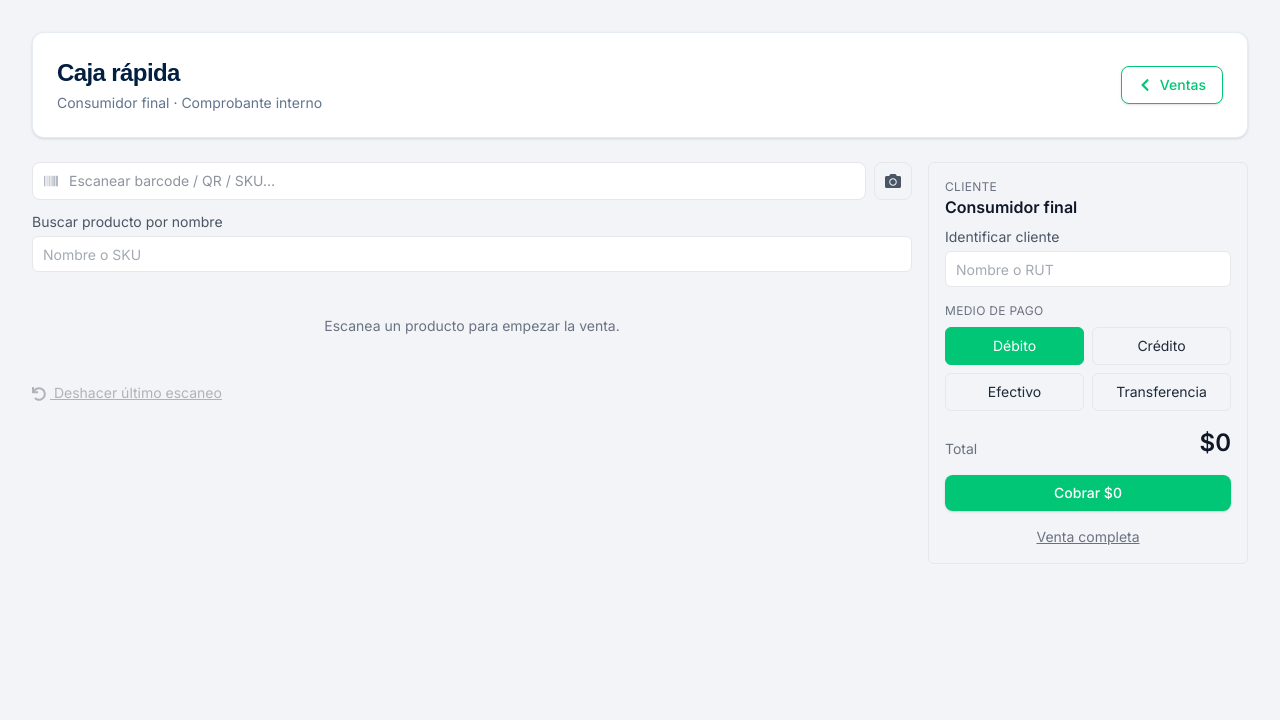
Test case: QuickSalePage › shows cash change and keeps an empty counter distinct from a load error
This screenshot has width=1280, height=720.
Expected: the text "Escanea un producto para empezar la venta." is shown, [324, 317, 620, 334]
Click the button "Efectivo" at (1014, 392), box [945, 373, 1084, 411]
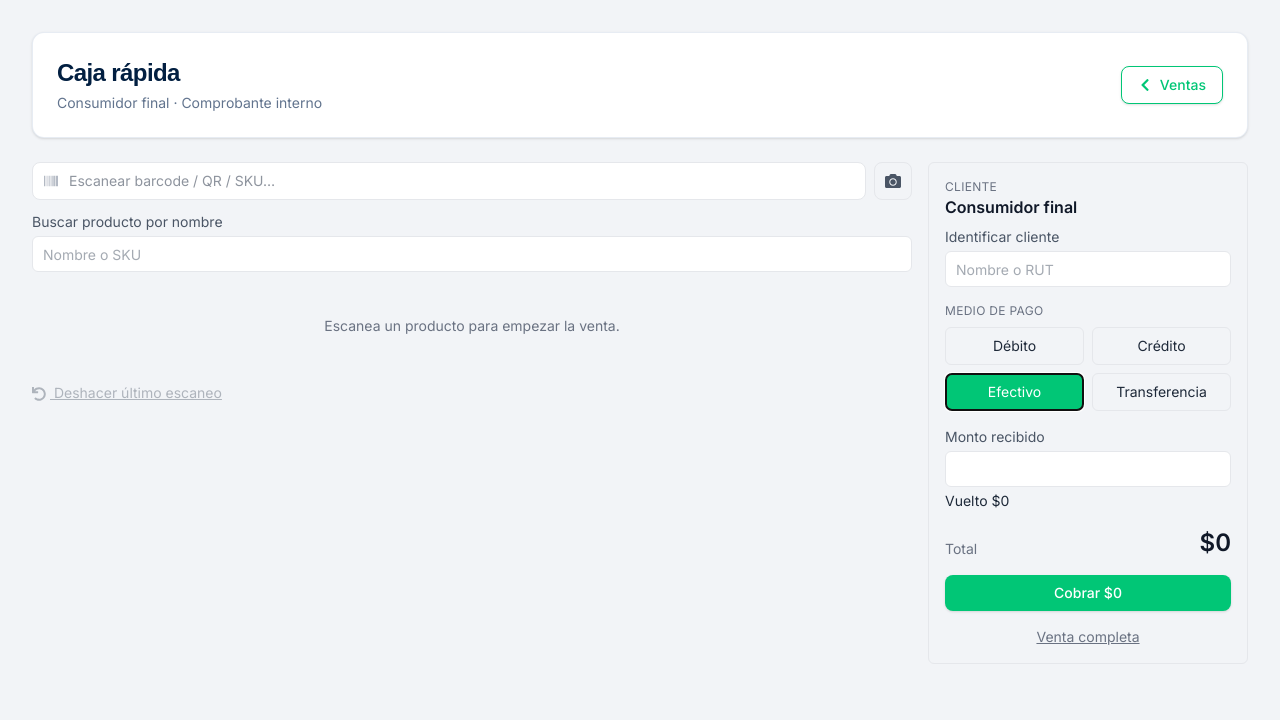
Type "Est" into the field labelled "Buscar producto por nombre" at (472, 254), box [32, 236, 912, 272]
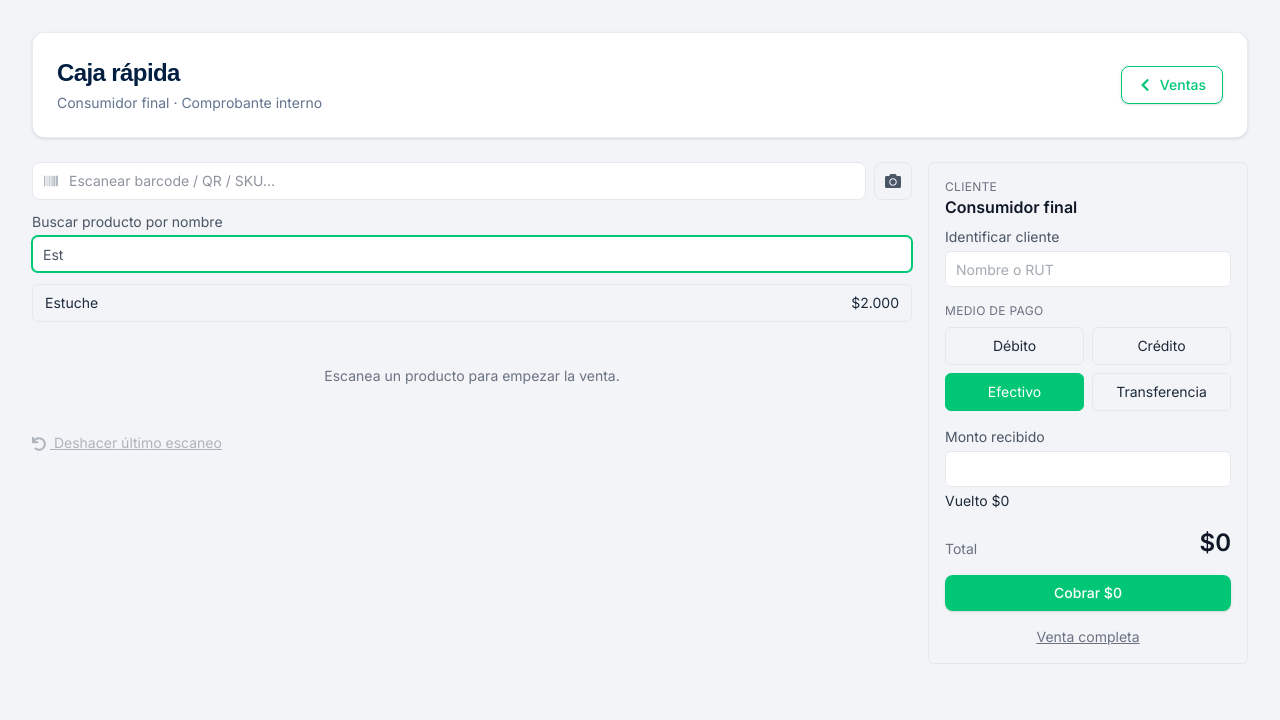
Click the button "Estuche $2.000" at (72, 302), box [33, 285, 911, 321]
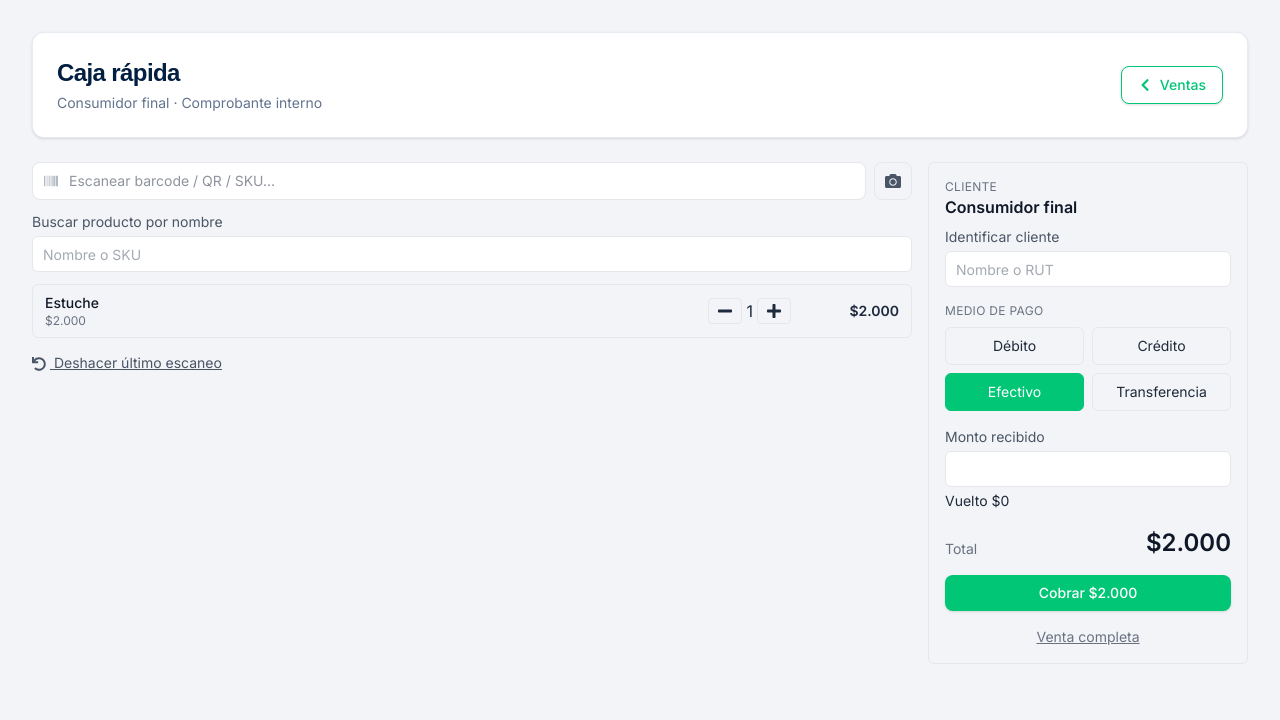
Type "5000" into the field labelled "Monto recibido" at (1088, 469), box [945, 451, 1231, 487]
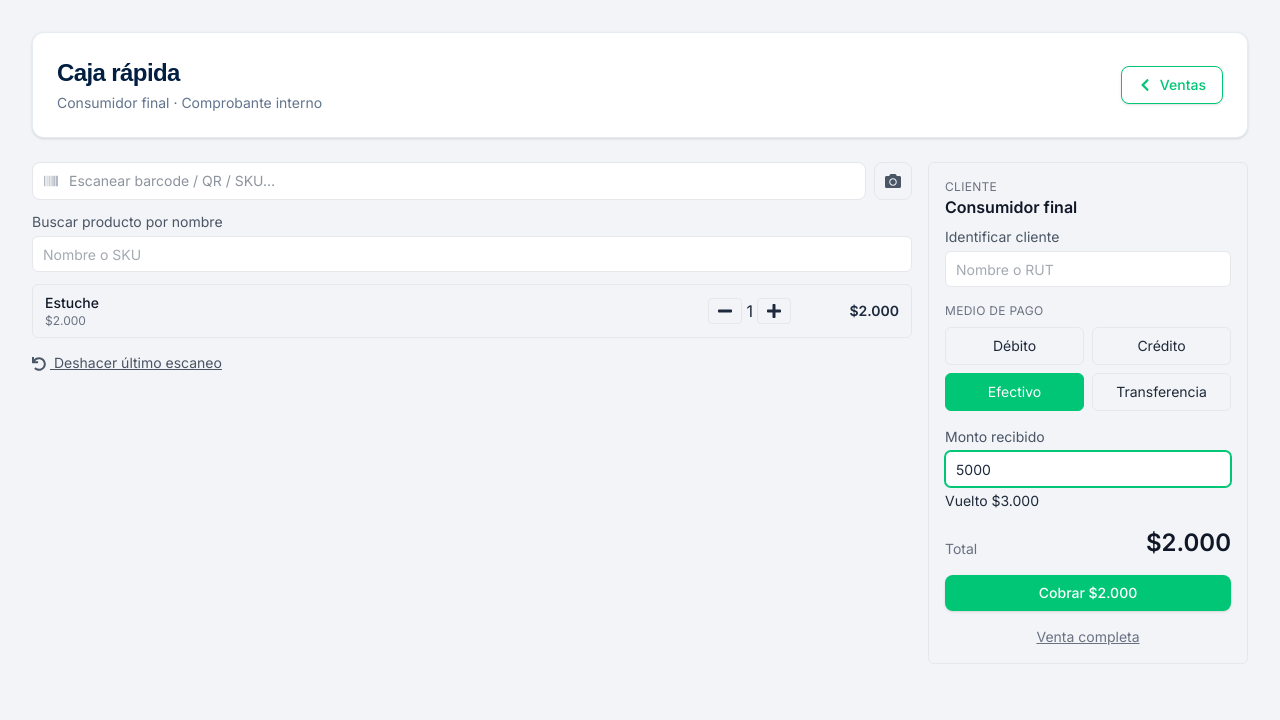
Expected: the button "Cobrar $2.000" is enabled, [945, 575, 1231, 611]
Now the text "Vuelto $3.000" is shown, box [945, 492, 1039, 509]
